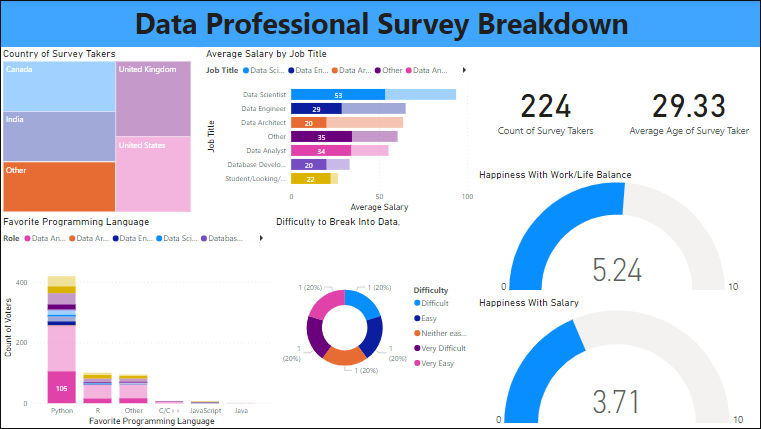

The dashboard page shown, as its layout file describes it:
{"tool":"powerbi","page":{"name":"1. sayfa","canvas":[1280,720],"ordinal":0},"visuals":[{"type":"textbox","box":[0,0,1280,78.8],"z":0},{"type":"card","fields":{"Values":["CountNonNull(Data Professional Survey.Unique ID)"]},"box":[798.5,78.8,233.2,203],"z":1000},{"type":"card","fields":{"Values":["Avg(Data Professional Survey.Q10 - Current Age)"]},"box":[1031.7,78.8,248.3,203],"z":2000},{"type":"barChart","title":"Average Salary by Job Title","fields":{"Category":["Data Professional Survey.Q1 - Which Title Best Fits your Current Role?.1"],"Y":["Avg(Data Professional Survey.Average Salary)"],"Series":["Data Professional Survey.Q1 - Which Title Best Fits your Current Role?.1"]},"box":[340.6,78.8,458,281.8],"z":3000},{"type":"columnChart","title":"Favorite Programming Language","fields":{"Category":["Data Professional Survey.Q5 - Favorite Programming Language.1"],"Y":["CountNonNull(Data Professional Survey.Unique ID)"],"Series":["Data Professional Survey.Q1 - Which Title Best Fits your Current Role?.1"]},"box":[0,360.7,458,359],"z":4000},{"type":"treemap","title":"Country of Survey Takers","fields":{"Group":["Data Professional Survey.Q11 - Which Country do you live in?.1"],"Values":["Count(Data Professional Survey.Q11 - Which Country do you live in?.1)"]},"box":[0,78.8,325.5,281.8],"z":5000},{"type":"gauge","title":"Happiness With Work/Life Balance","fields":{"Y":["Avg(Data Professional Survey.Q6 - How Happy are you in your Current Position with the following? (Work/Life Balance))"],"MinValue":["Min(Data Professional Survey.Q6 - How Happy are you in your Current Position with the following? (Work/Life Balance))1"],"MaxValue":["Max(Data Professional Survey.Q6 - How Happy are you in your Current Position with the following? (Work/Life Balance))2"]},"box":[798.5,281.8,481.5,214.7],"z":6000},{"type":"gauge","title":"Happiness With Salary","fields":{"Y":["Avg(Data Professional Survey.Q6 - How Happy are you in your Current Position with the following? (Salary))"],"MinValue":["Min(Data Professional Survey.Q6 - How Happy are you in your Current Position with the following? (Salary))"],"MaxValue":["Max(Data Professional Survey.Q6 - How Happy are you in your Current Position with the following? (Salary))"]},"box":[798.5,496.6,481.5,223.1],"z":7000},{"type":"donutChart","title":"Difficulty to Break Into Data,","fields":{"Y":["Count(Data Professional Survey.Q7 - How difficult was it for you to break into Data?)"],"Category":["Data Professional Survey.Q7 - How difficult was it for you to break into Data?"]},"box":[458,360.7,340.6,359],"z":8000}]}

Visuals, with their boxes in screenshot pixels (x1, y1, x2, y2), scaled from the page's 1280x720 canvas onto the 761x429 screenshot:
textbox: [0,0,760,47]
card - CountNonNull(Data Professional Survey.Unique ID): [475,47,613,168]
card - Avg(Data Professional Survey.Q10 - Current Age): [613,47,760,168]
"Average Salary by Job Title" barChart: [202,47,475,215]
"Favorite Programming Language" columnChart: [0,215,272,428]
"Country of Survey Takers" treemap: [0,47,194,215]
"Happiness With Work/Life Balance" gauge: [475,168,760,296]
"Happiness With Salary" gauge: [475,296,760,428]
"Difficulty to Break Into Data," donutChart: [272,215,475,428]
